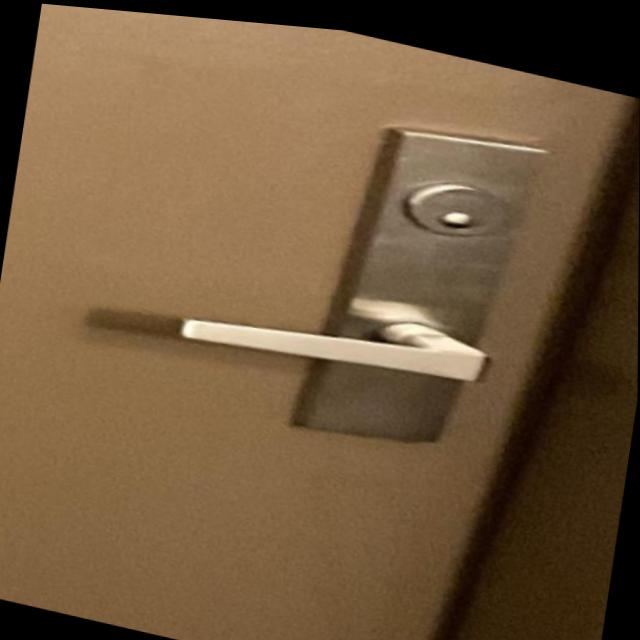door_handle: (150, 243, 532, 430)
